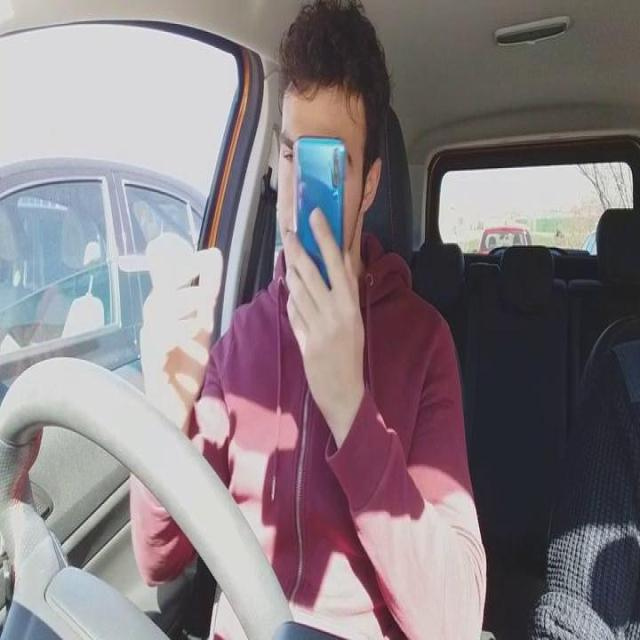phone: (291, 134, 346, 280)
